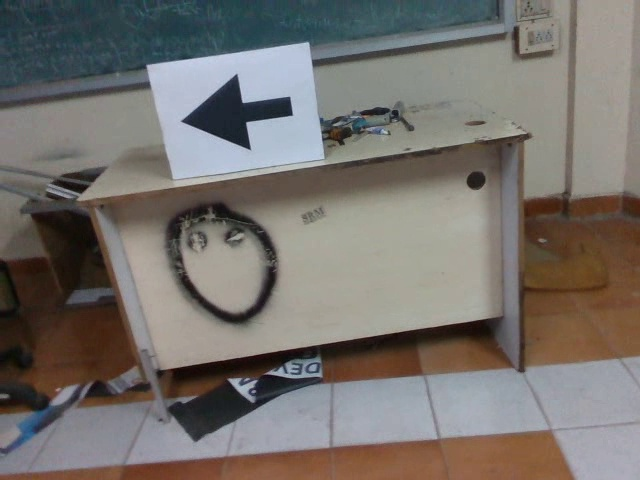Left: (176, 69, 296, 157)
